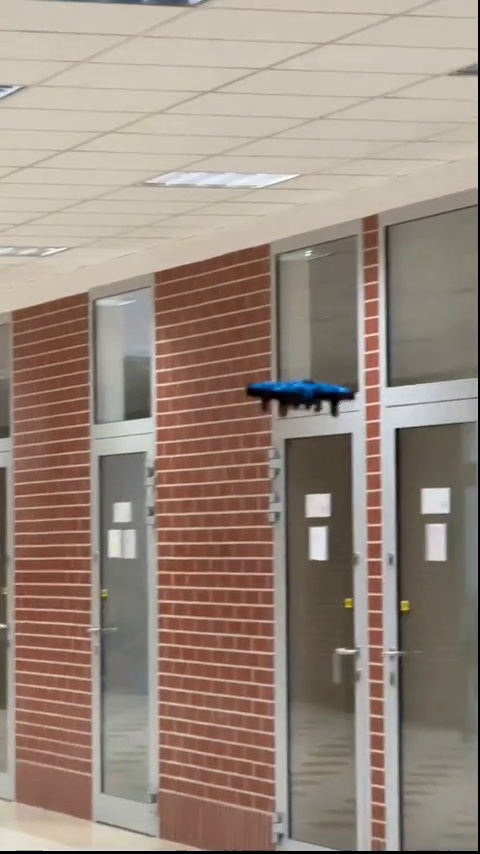drone: (251, 376, 350, 416)
